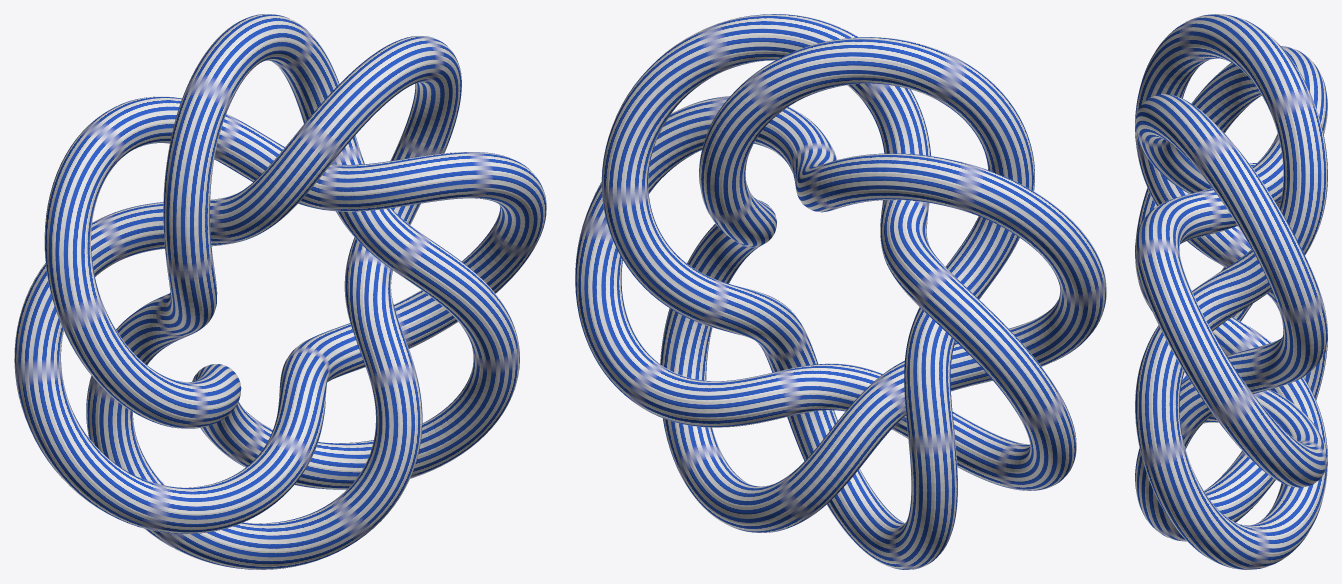
File: torus_knot.obj
3 views of the same model, side by side, from view 1: azimuth 30°, elevation 25°; view 2: azimuth 150°, elevation 25°; view 3: azimuth 270°, elevation 25° (orthographic). The views are drawn at different scales.
Size of the model in its own units: 2.96 by 3 by 1.04.
Materials: 1 (1 with a texture image).
